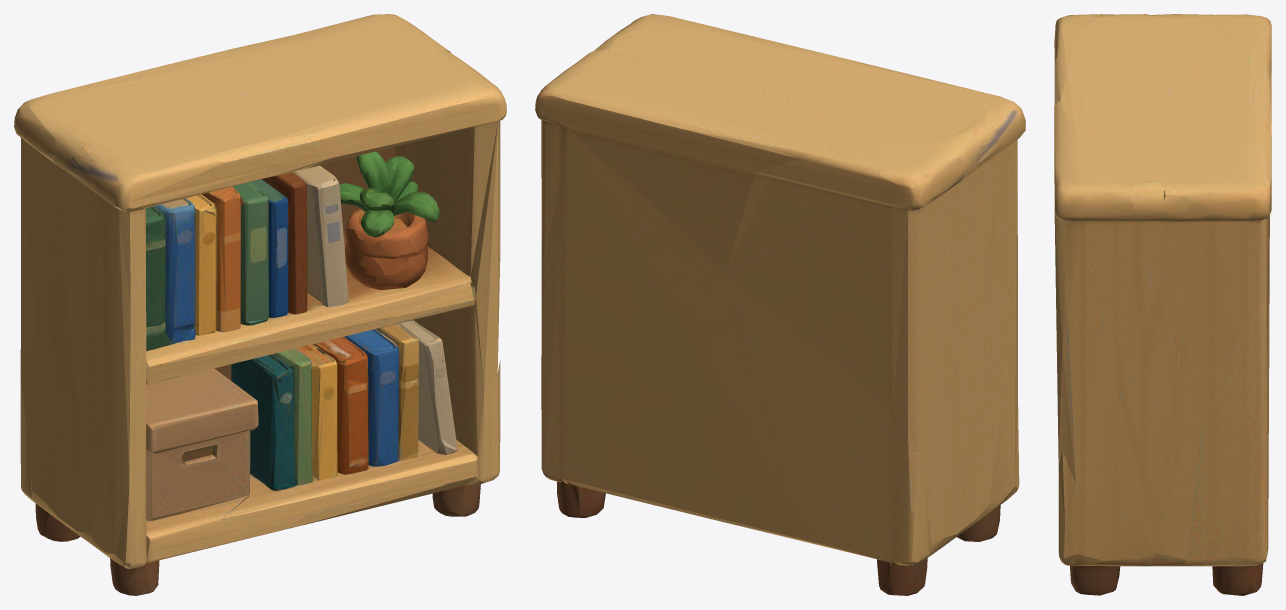
The model's file is shelf_books.glb.
The picture shows the model from 3 angles, left to right: view 1: azimuth 30°, elevation 25°; view 2: azimuth 150°, elevation 25°; view 3: azimuth 270°, elevation 25°; orthographic projection. The views are drawn at different scales.
Visible parts, largest first — view 1: mesh_node; view 2: mesh_node; view 3: mesh_node.
Boxes of the visible parts, bbox=[...] form: mesh_node: bbox=[14, 14, 506, 595]; mesh_node: bbox=[535, 14, 1025, 595]; mesh_node: bbox=[1054, 14, 1271, 595].
Size of the model in its own units: 0.5069 by 0.53 by 0.2527.
1 material, 1 textured.
